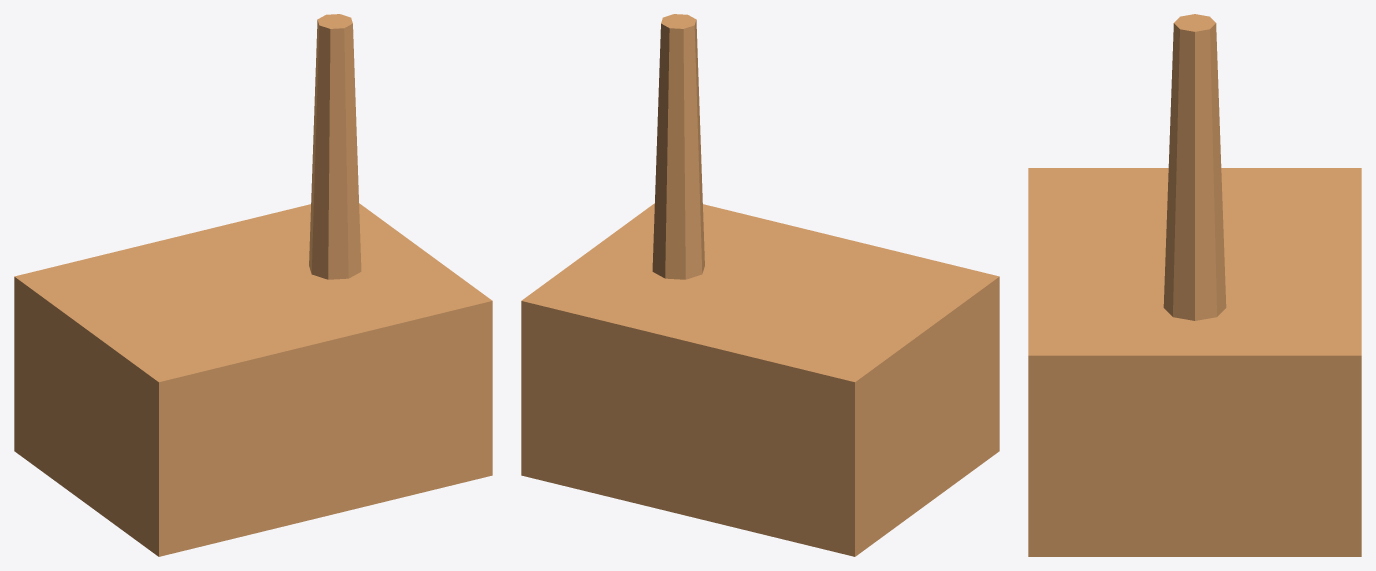
Rendered from factory.glb.
The picture shows the model from 3 angles, left to right: view 1: azimuth 30°, elevation 25°; view 2: azimuth 150°, elevation 25°; view 3: azimuth 270°, elevation 25°; orthographic projection. The views are drawn at different scales.
Visible parts, largest first — view 1: Factory; view 2: Factory; view 3: Factory.
Part boxes in pixels (box(x1,y1,x2,y2)): Factory: box(14, 14, 492, 556); Factory: box(521, 14, 999, 556); Factory: box(1028, 14, 1361, 556).
Bounding box in the file's own units: 0.02 × 0.0242 × 0.015.
